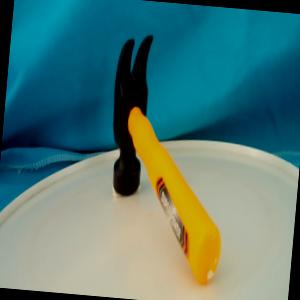martelo: (96, 30, 238, 288)
